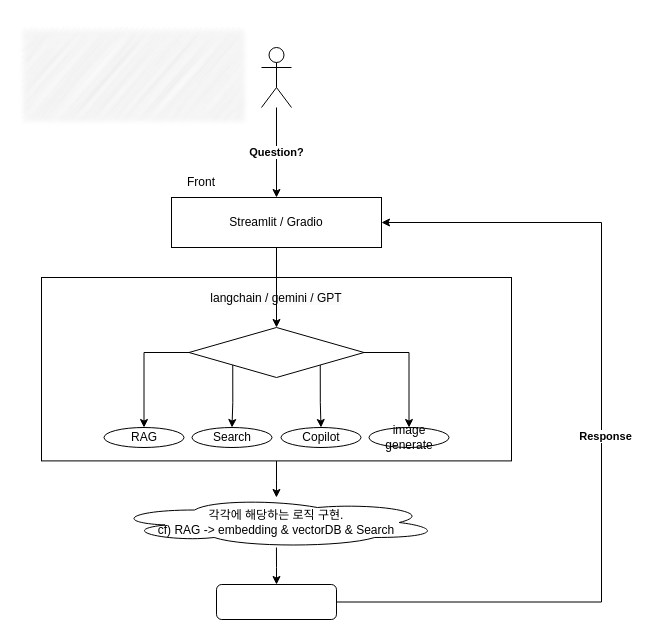
Some shapes in this 648 by 637 pixel diagram are drawn without their labels. The centre of each missing label's shape, as x and y in pixels:
LLMRouter: the point at 276,352
Personal Chatbot RAG, Search, Copilot 등은 예시이며 원하는 챗봇을 구현하기를 권유: the point at 132,73
Result: the point at 276,602
User: the point at 276,77
